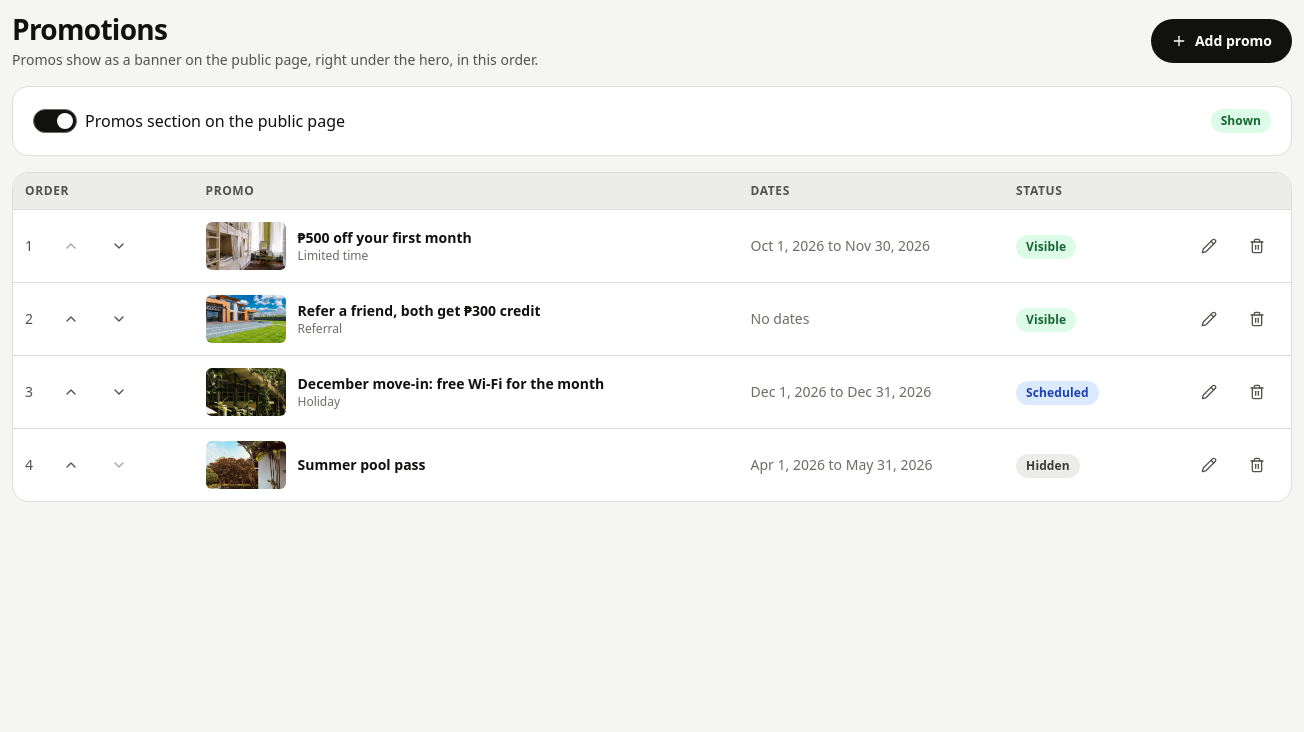
Test: AdminPromotionsPage (proposed promotions) › lists promos in order with their status, and switches the public section off
Click the switch labelled "Promos section on the public page" at [55, 121], box [33,109,77,133]
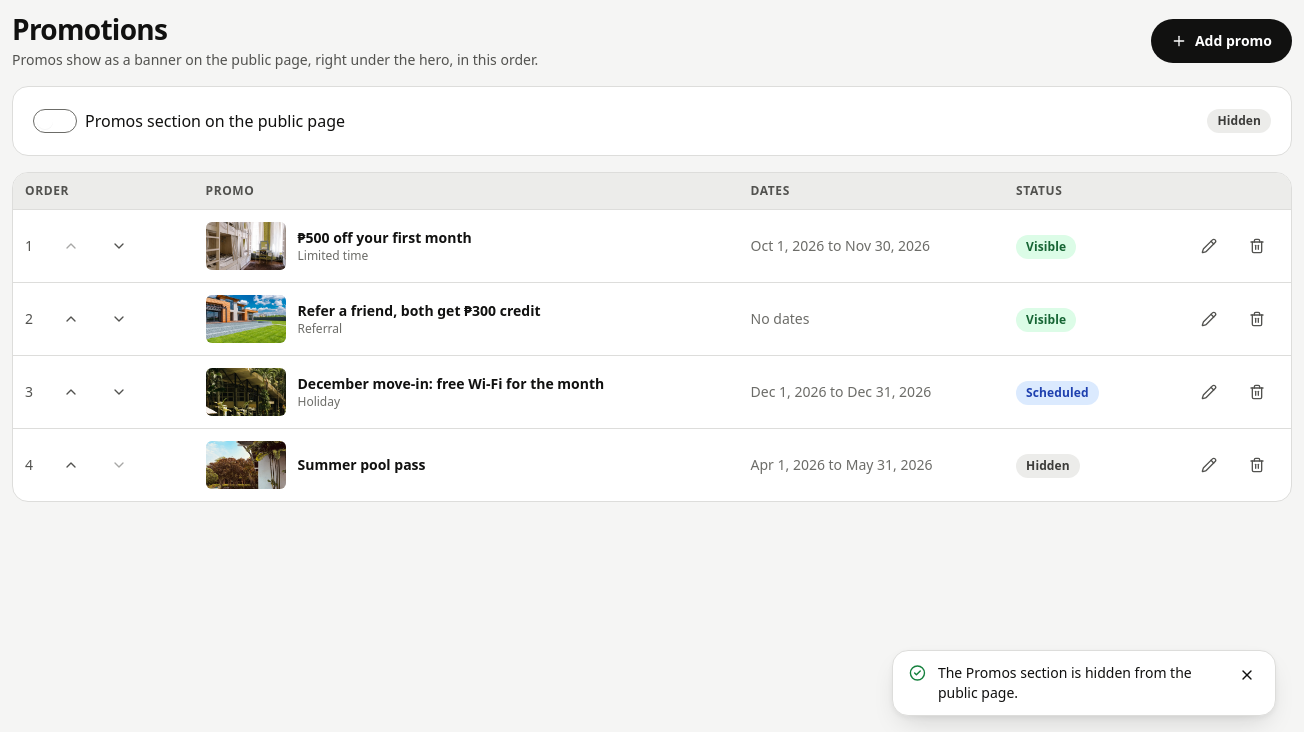
expect the text "The Promos section is hidden from the public page." is shown: met, box [938,663,1223,703]
